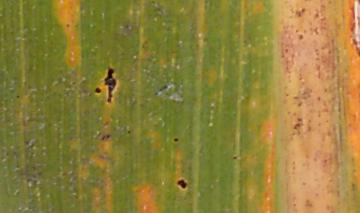tarspot: (103, 66, 118, 104), (174, 177, 188, 190), (294, 7, 306, 18), (157, 84, 168, 92), (94, 86, 102, 96), (296, 32, 304, 41), (231, 154, 238, 161), (105, 133, 111, 140), (100, 135, 106, 142), (173, 136, 179, 142), (15, 94, 21, 100), (126, 129, 132, 135), (153, 90, 158, 97), (65, 23, 70, 28)
